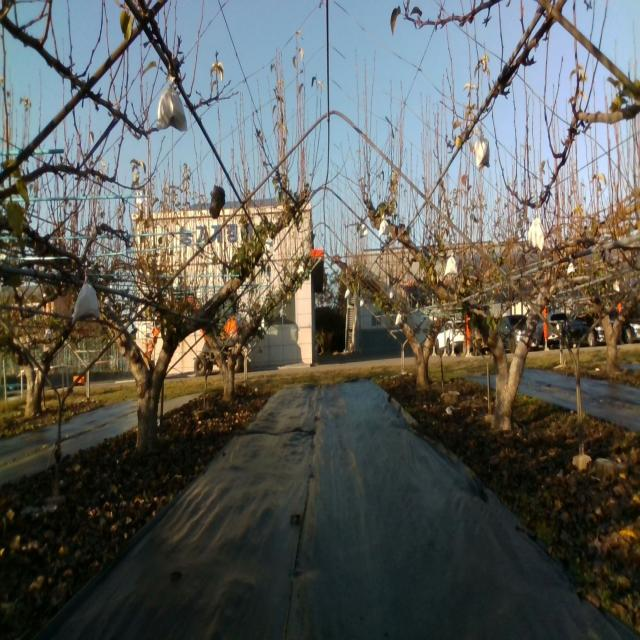pearbags: (157, 74, 189, 131), (72, 275, 100, 325), (475, 122, 490, 170), (528, 216, 546, 253), (444, 250, 458, 276), (265, 234, 275, 254)
